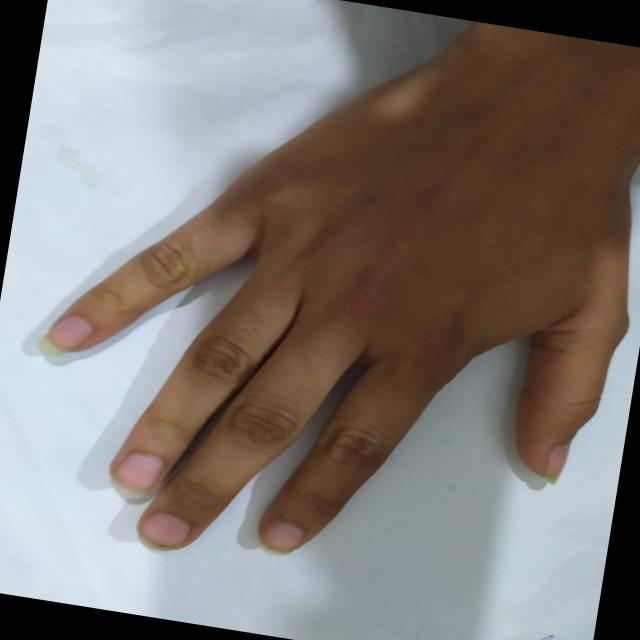Nail: (111, 450, 164, 491), (137, 512, 190, 549), (47, 314, 93, 351), (259, 520, 304, 552), (543, 443, 569, 482)
